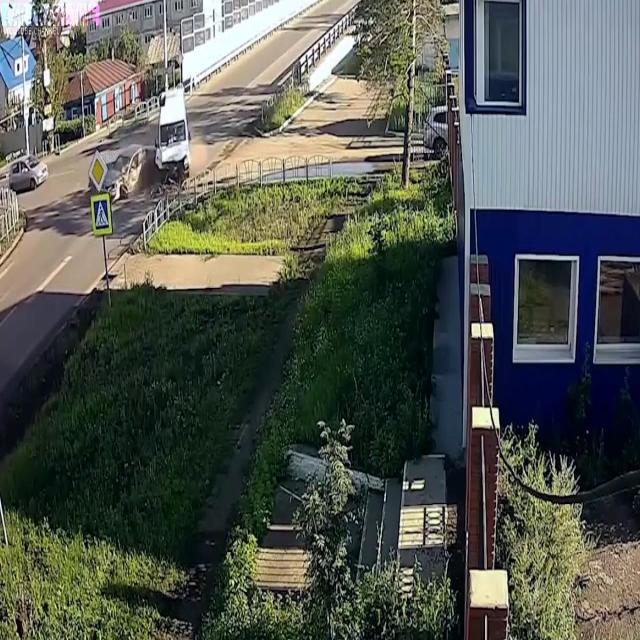accident: (97, 75, 193, 209)
